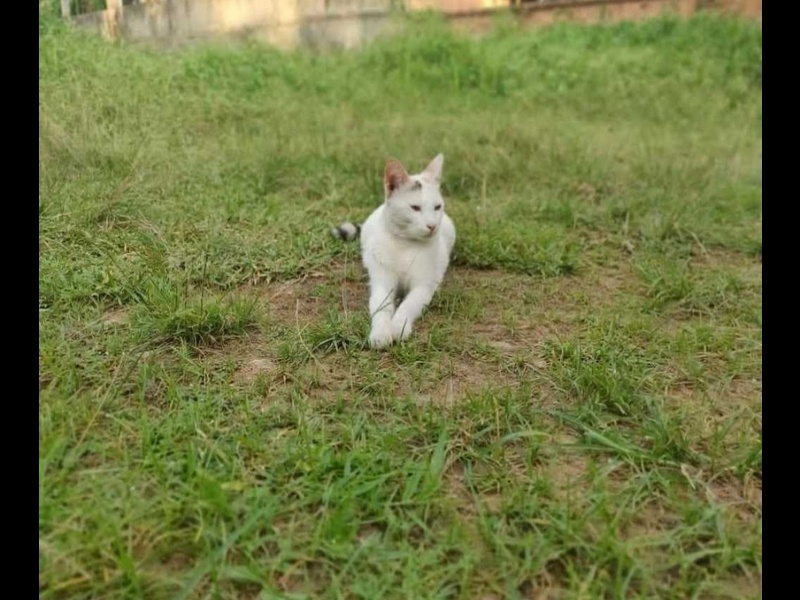cat: (328, 150, 461, 362)
